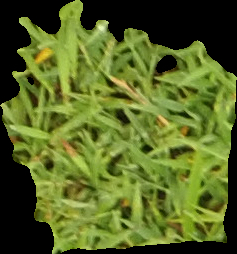grass: (1, 1, 236, 253)
